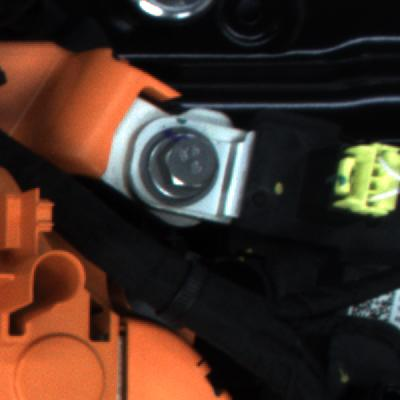nut_b: (137, 123, 223, 203)
